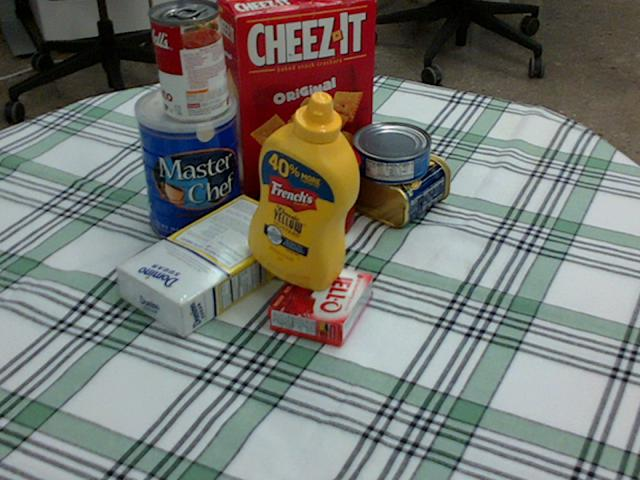cracker_box: (217, 0, 375, 196)
gelatin_box: (268, 259, 372, 345)
master_chef_can: (133, 83, 242, 244)
mug: (273, 137, 361, 239)
mustard_bottle: (248, 90, 359, 290)
potted_meat_can: (334, 134, 448, 224)
sugar_box: (115, 193, 306, 336)
tomato_soup_can: (150, 0, 228, 120)
tuna_fish_can: (352, 122, 430, 184)
